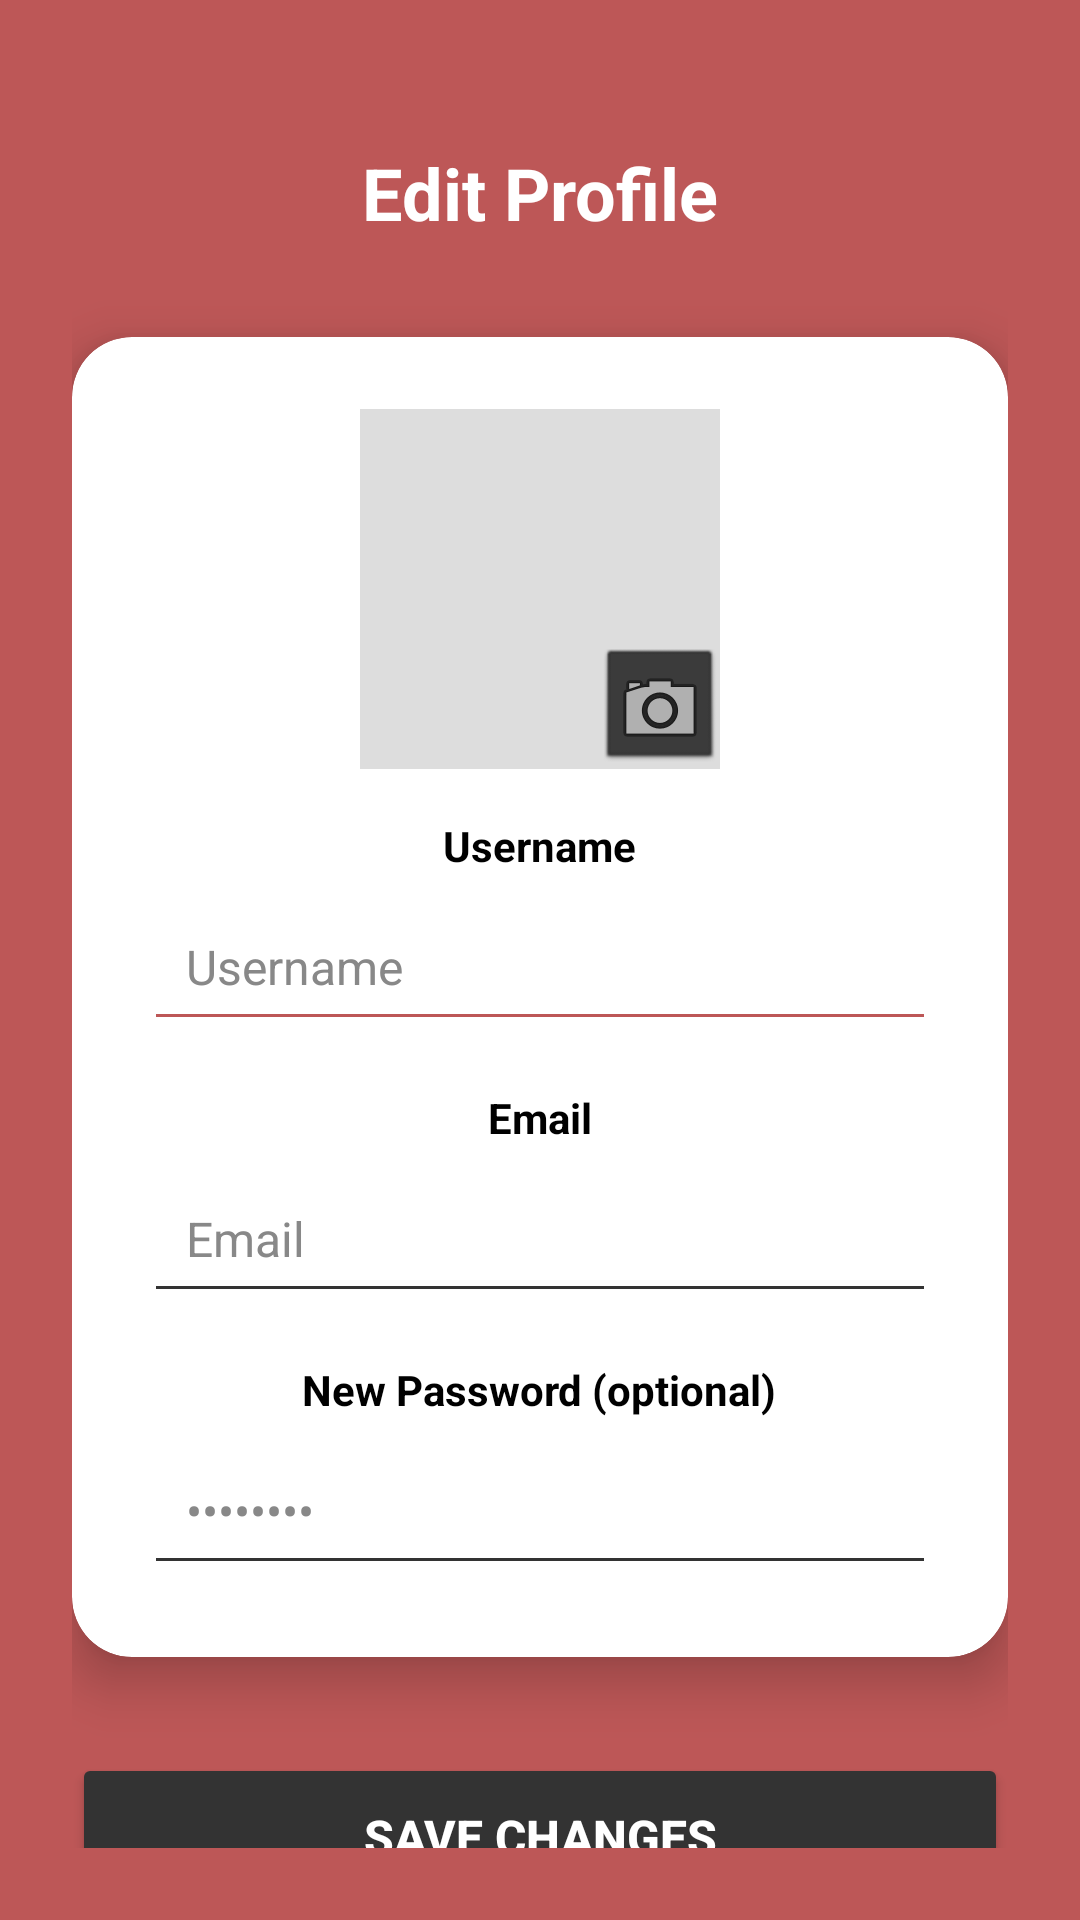

Named icons in this screenshot (1080×1920) and their bounding boxes, rect(x1, y1, x2, y2):
Change profile picture: rect(605, 650, 714, 759)
